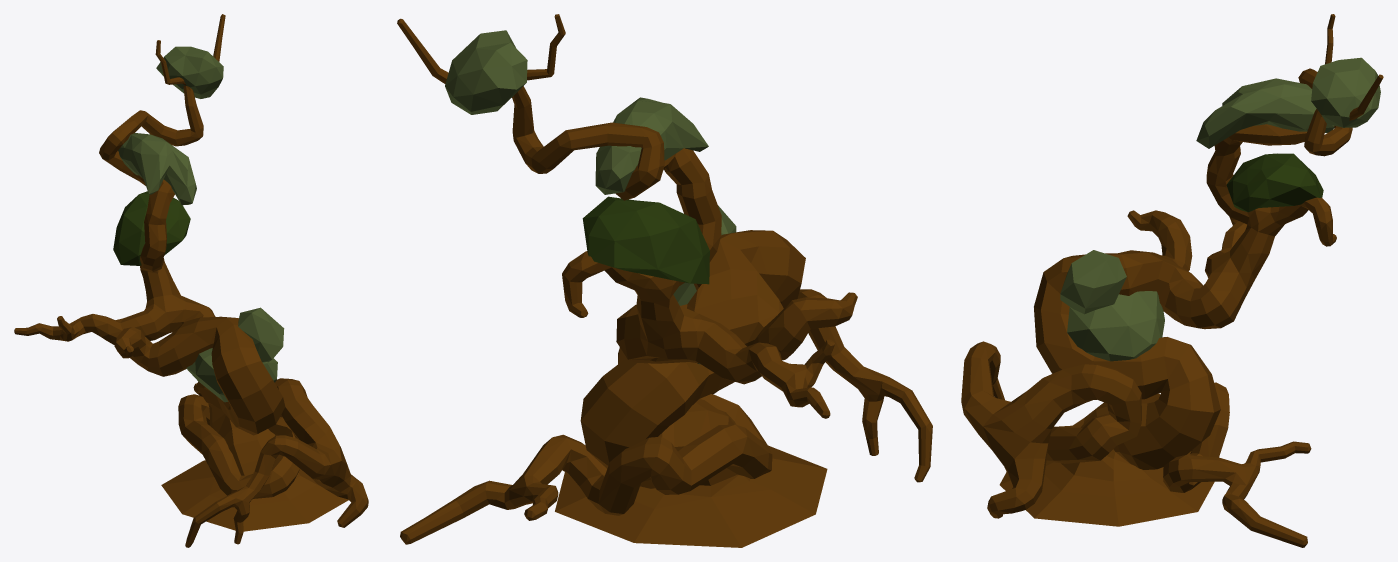
File: Tree_Small_2.glb
The picture shows the model from 3 angles, left to right: view 1: azimuth 30°, elevation 25°; view 2: azimuth 150°, elevation 25°; view 3: azimuth 270°, elevation 25°; orthographic projection. The views are drawn at different scales.
Visible parts, largest first — view 1: Tree_Small_2; view 2: Tree_Small_2; view 3: Tree_Small_2.
Part boxes in pixels (x1,y1,x2,y2): Tree_Small_2: (14, 14, 368, 547); Tree_Small_2: (397, 14, 932, 547); Tree_Small_2: (961, 14, 1383, 547).
Size of the model in its own units: 5.66 by 7.68 by 6.15.
1 material, 1 textured.
